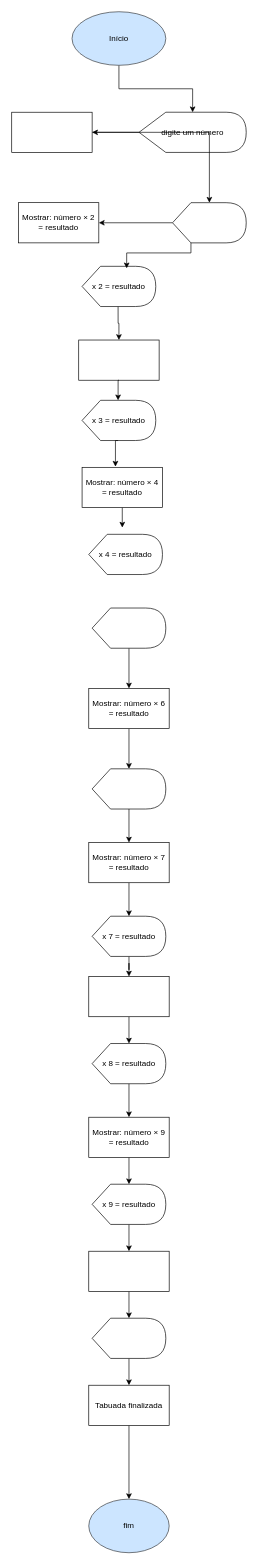
Some shapes in this 258 by 1564 pixel diagram are drawn without their labels. The centre of each missing label's shape, as x and y in pixels:
"Mostrar: número × 1 = resultado" belongs at [51,132].
"Mostrar: número × 10 = resultado" belongs at [128,1271].
"Mostrar: número × 3 = resultado" belongs at [118,359].
"Mostrar: número × 8 = resultado" belongs at [128,996].
"x 1 = resultado" belongs at [209,222].
"x 10 = resultado" belongs at [128,1338].
"x 5 = resultado" belongs at [128,627].
"x 6 = resultado" belongs at [128,788].
